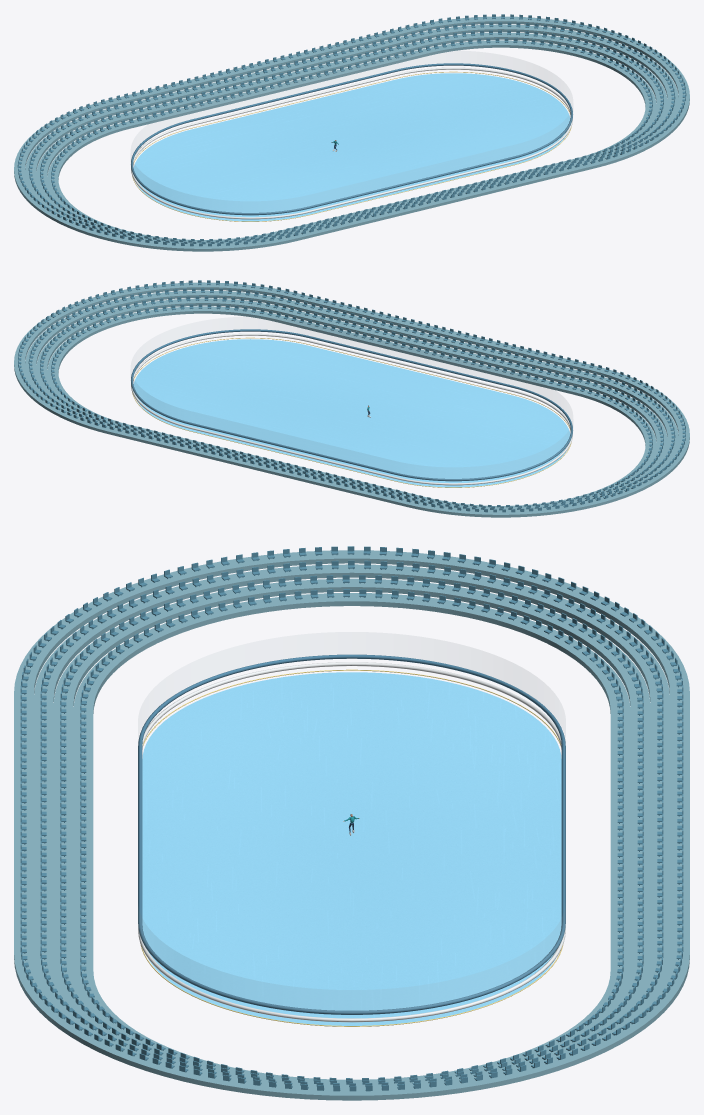
The model's file is 4Lz+3T-r3-sideclear030-v1-web.glb.
The picture shows the model from 3 angles, top to bottom: view 1: azimuth 30°, elevation 25°; view 2: azimuth 150°, elevation 25°; view 3: azimuth 270°, elevation 25°; orthographic projection. The views are drawn at different scales.
Visible parts, largest first — view 1: V23 capsule ice · 60 m × 30 m (30 m straights + semicircles), V23 · continuous capsule tier 4, V23 · continuous capsule tier 3, V23 · continuous capsule tier 1, V23 · continuous capsule tier 2, V23 · empty seat row 4 · 204 seats, V23 · empty seat row 3 · 196 seats, V23 · empty seat row 2 · 189 seats, V23 · empty seat row 1 · 181 seats, V23 continuous capsule top cap, V23 continuous capsule boards, V23 continuous capsule kick plate; view 2: V23 capsule ice · 60 m × 30 m (30 m straights + semicircles), V23 · continuous capsule tier 4, V23 · continuous capsule tier 3, V23 · continuous capsule tier 2, V23 · continuous capsule tier 1, V23 · empty seat row 4 · 204 seats, V23 · empty seat row 3 · 196 seats, V23 · empty seat row 2 · 189 seats, V23 · empty seat row 1 · 181 seats, V23 continuous capsule top cap, V23 continuous capsule boards, V23 continuous capsule kick plate; view 3: V23 capsule ice · 60 m × 30 m (30 m straights + semicircles), V23 · continuous capsule tier 4, V23 · continuous capsule tier 3, V23 · continuous capsule tier 2, V23 · continuous capsule tier 1, V23 · empty seat row 4 · 204 seats, V23 · empty seat row 3 · 196 seats, V23 · empty seat row 2 · 189 seats, V23 · empty seat row 1 · 181 seats, V23 continuous capsule top cap, V23 continuous capsule boards, V23 continuous capsule kick plate.
Part boxes in pixels (x1,y1,x2,y2): V23 capsule ice · 60 m × 30 m (30 m straights + semicircles): [133, 73, 570, 221]; V23 · continuous capsule tier 4: [14, 16, 689, 251]; V23 · continuous capsule tier 3: [25, 24, 678, 244]; V23 · continuous capsule tier 1: [47, 40, 656, 241]; V23 · continuous capsule tier 2: [36, 32, 667, 242]; V23 · empty seat row 4 · 204 seats: [17, 14, 686, 246]; V23 · empty seat row 3 · 196 seats: [28, 22, 675, 244]; V23 · empty seat row 2 · 189 seats: [40, 30, 663, 242]; V23 · empty seat row 1 · 181 seats: [51, 38, 652, 241]; V23 continuous capsule top cap: [131, 63, 572, 215]; V23 continuous capsule boards: [131, 67, 572, 219]; V23 continuous capsule kick plate: [132, 71, 571, 221]; V23 capsule ice · 60 m × 30 m (30 m straights + semicircles): [133, 339, 570, 487]; V23 · continuous capsule tier 4: [14, 282, 689, 517]; V23 · continuous capsule tier 3: [25, 290, 678, 510]; V23 · continuous capsule tier 2: [36, 298, 667, 508]; V23 · continuous capsule tier 1: [47, 306, 656, 507]; V23 · empty seat row 4 · 204 seats: [18, 280, 685, 512]; V23 · empty seat row 3 · 196 seats: [28, 288, 675, 510]; V23 · empty seat row 2 · 189 seats: [40, 296, 663, 508]; V23 · empty seat row 1 · 181 seats: [51, 304, 652, 507]; V23 continuous capsule top cap: [131, 329, 572, 481]; V23 continuous capsule boards: [131, 333, 572, 485]; V23 continuous capsule kick plate: [132, 337, 571, 487]; V23 capsule ice · 60 m × 30 m (30 m straights + semicircles): [142, 672, 561, 1025]; V23 · continuous capsule tier 4: [14, 550, 689, 1100]; V23 · continuous capsule tier 3: [34, 564, 669, 1087]; V23 · continuous capsule tier 2: [53, 578, 650, 1084]; V23 · continuous capsule tier 1: [73, 593, 630, 1082]; V23 · empty seat row 4 · 204 seats: [20, 546, 683, 1091]; V23 · empty seat row 3 · 196 seats: [40, 560, 663, 1087]; V23 · empty seat row 2 · 189 seats: [60, 575, 643, 1084]; V23 · empty seat row 1 · 181 seats: [80, 589, 623, 1081]; V23 continuous capsule top cap: [138, 654, 565, 1014]; V23 continuous capsule boards: [138, 662, 565, 1022]; V23 continuous capsule kick plate: [140, 669, 563, 1026].
Bounding box in the file's own units: 92.36 × 3.04 × 48.36.
23 materials, 1 textured.
